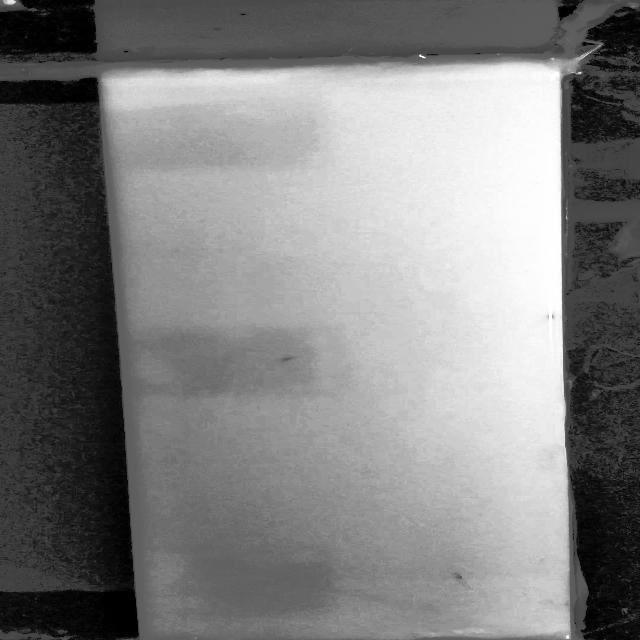shrimp: (450, 569, 474, 587), (279, 353, 307, 365)
